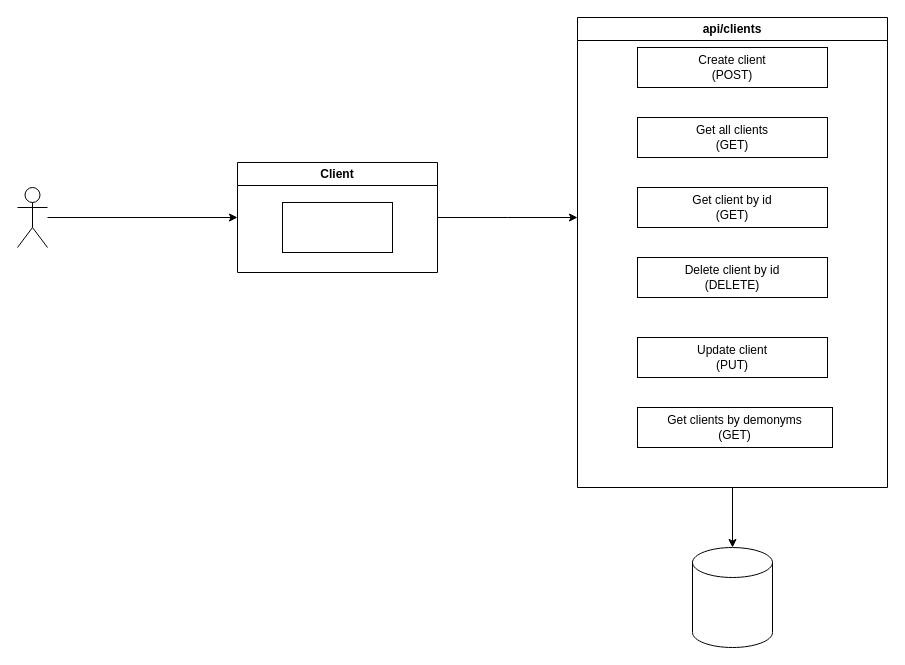
This 905x665 diagram has some shape labels left out. Each missing label, with the centre of its shape:
Actor: point (32, 217)
PostgreSql: point (732, 597)
Swagger ui: point (337, 227)
